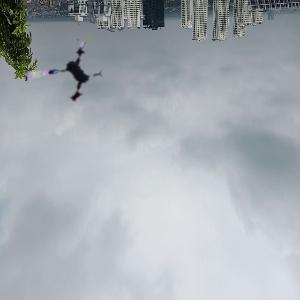drone: (27, 40, 109, 122)
